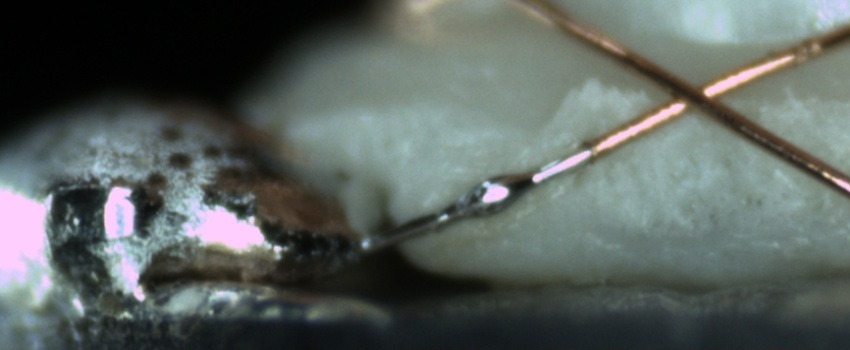CL: (643, 60, 740, 124)
DL: (566, 88, 849, 121)
TB: (459, 166, 529, 223)
TS: (362, 144, 596, 251)
TTCW: (353, 118, 635, 256)
